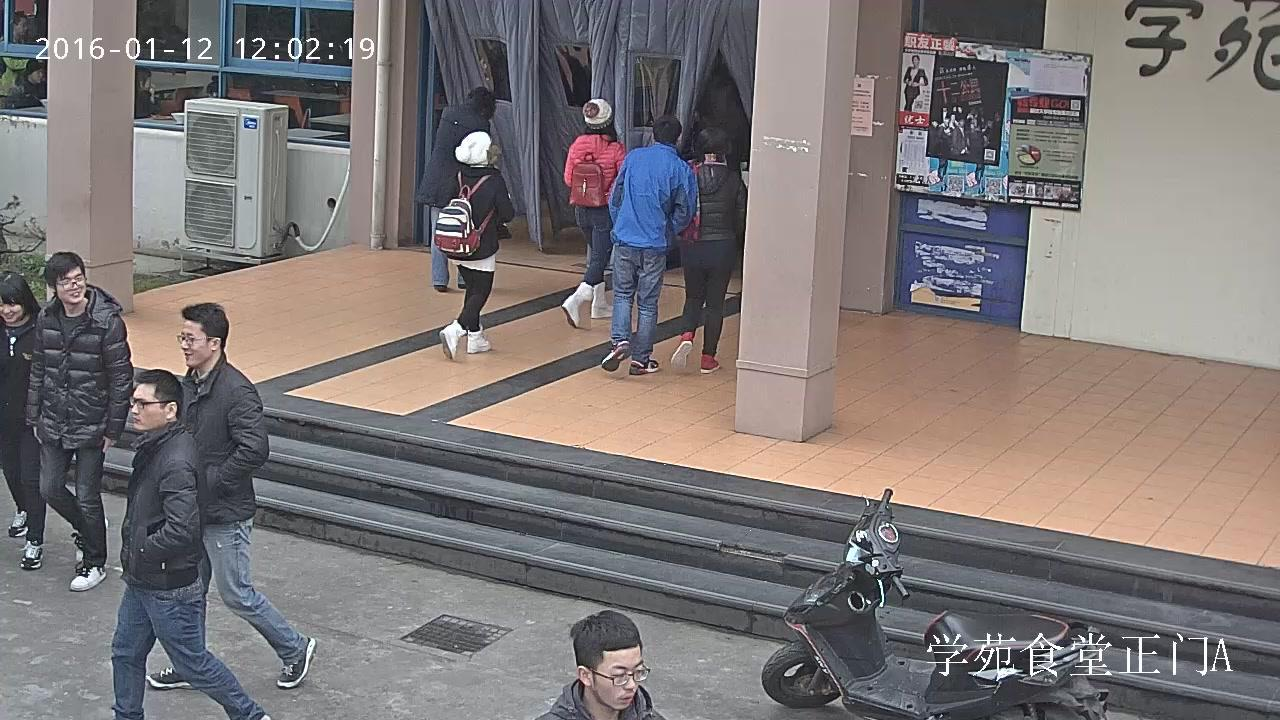person: (146, 301, 318, 688), (109, 368, 272, 720), (23, 251, 134, 591), (601, 113, 698, 375), (671, 125, 747, 374), (433, 131, 515, 360), (415, 86, 497, 292), (560, 98, 626, 328), (0, 270, 47, 569), (0, 9, 35, 107), (8, 57, 47, 111), (134, 66, 161, 119), (903, 54, 928, 111)
